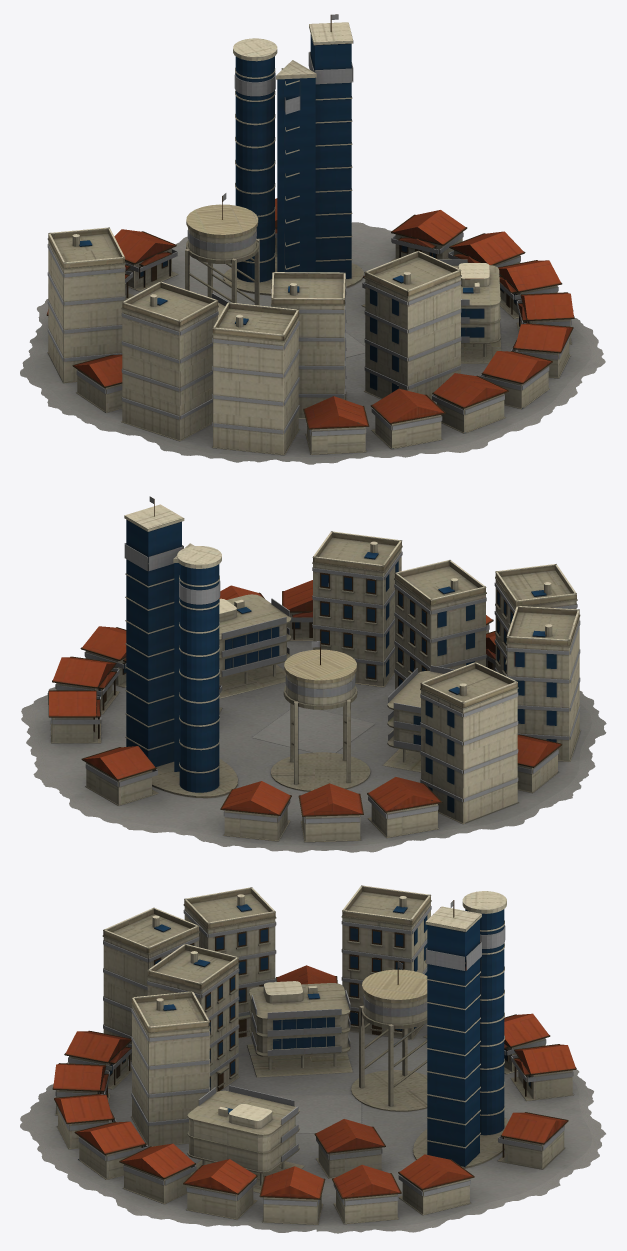
File: modern-town-big-b-israelite.glb
3 renders of one model, top to bottom at view 1: azimuth 30°, elevation 25°; view 2: azimuth 150°, elevation 25°; view 3: azimuth 270°, elevation 25°, orthographic.
Visible parts, largest first — view 1: LOD0; view 2: LOD0; view 3: LOD0.
Boxes of the visible parts, x1,y1,x2,y2 form: LOD0: [20, 14, 605, 464]; LOD0: [21, 496, 606, 852]; LOD0: [20, 885, 605, 1233].
Size of what is drawn, in the model's own units: 7.89 by 3.85 by 8.05.
Materials: 3 (3 with a texture image).
